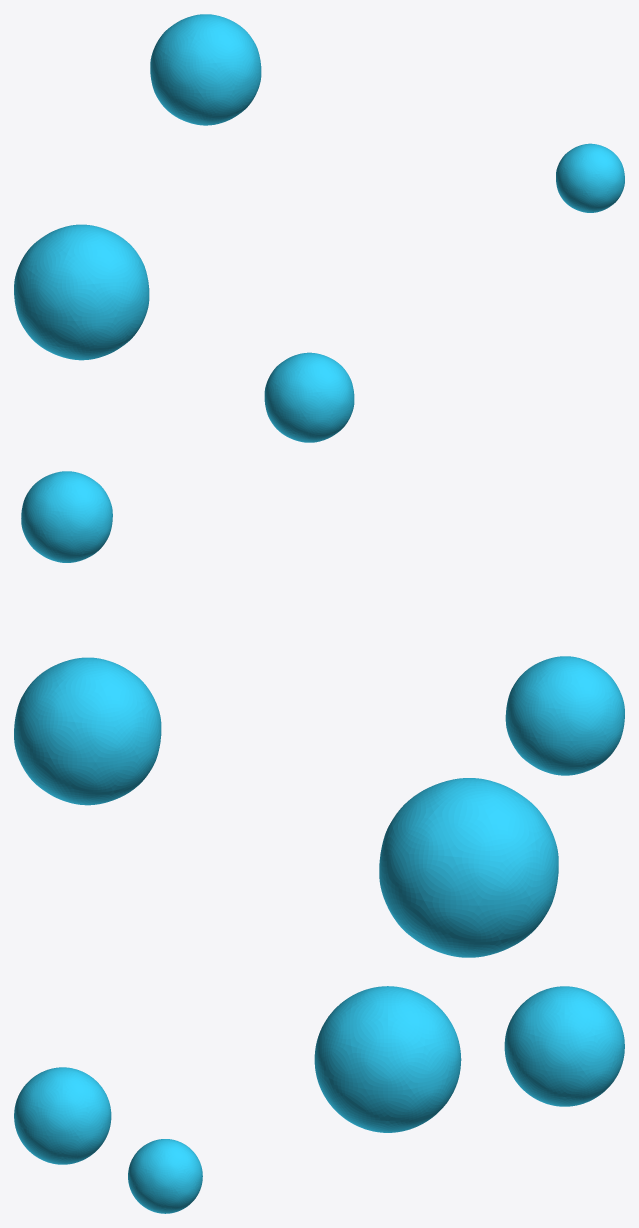
Rendered from waterSky.fbx.
The picture shows the model from 3 angles, top to bottom: view 1: azimuth 30°, elevation 25°; view 2: azimuth 150°, elevation 25°; view 3: azimuth 270°, elevation 25°; orthographic projection. The views are drawn at different scales.
Parts seen in each view (by area): view 1: waterSky; view 2: waterSky; view 3: waterSky.
Boxes of the visible parts, bbox=[...] form: waterSky: bbox=[14, 14, 624, 442]; waterSky: bbox=[14, 471, 624, 957]; waterSky: bbox=[14, 986, 624, 1213].
Size of the model in its own units: 124 by 54 by 123.
